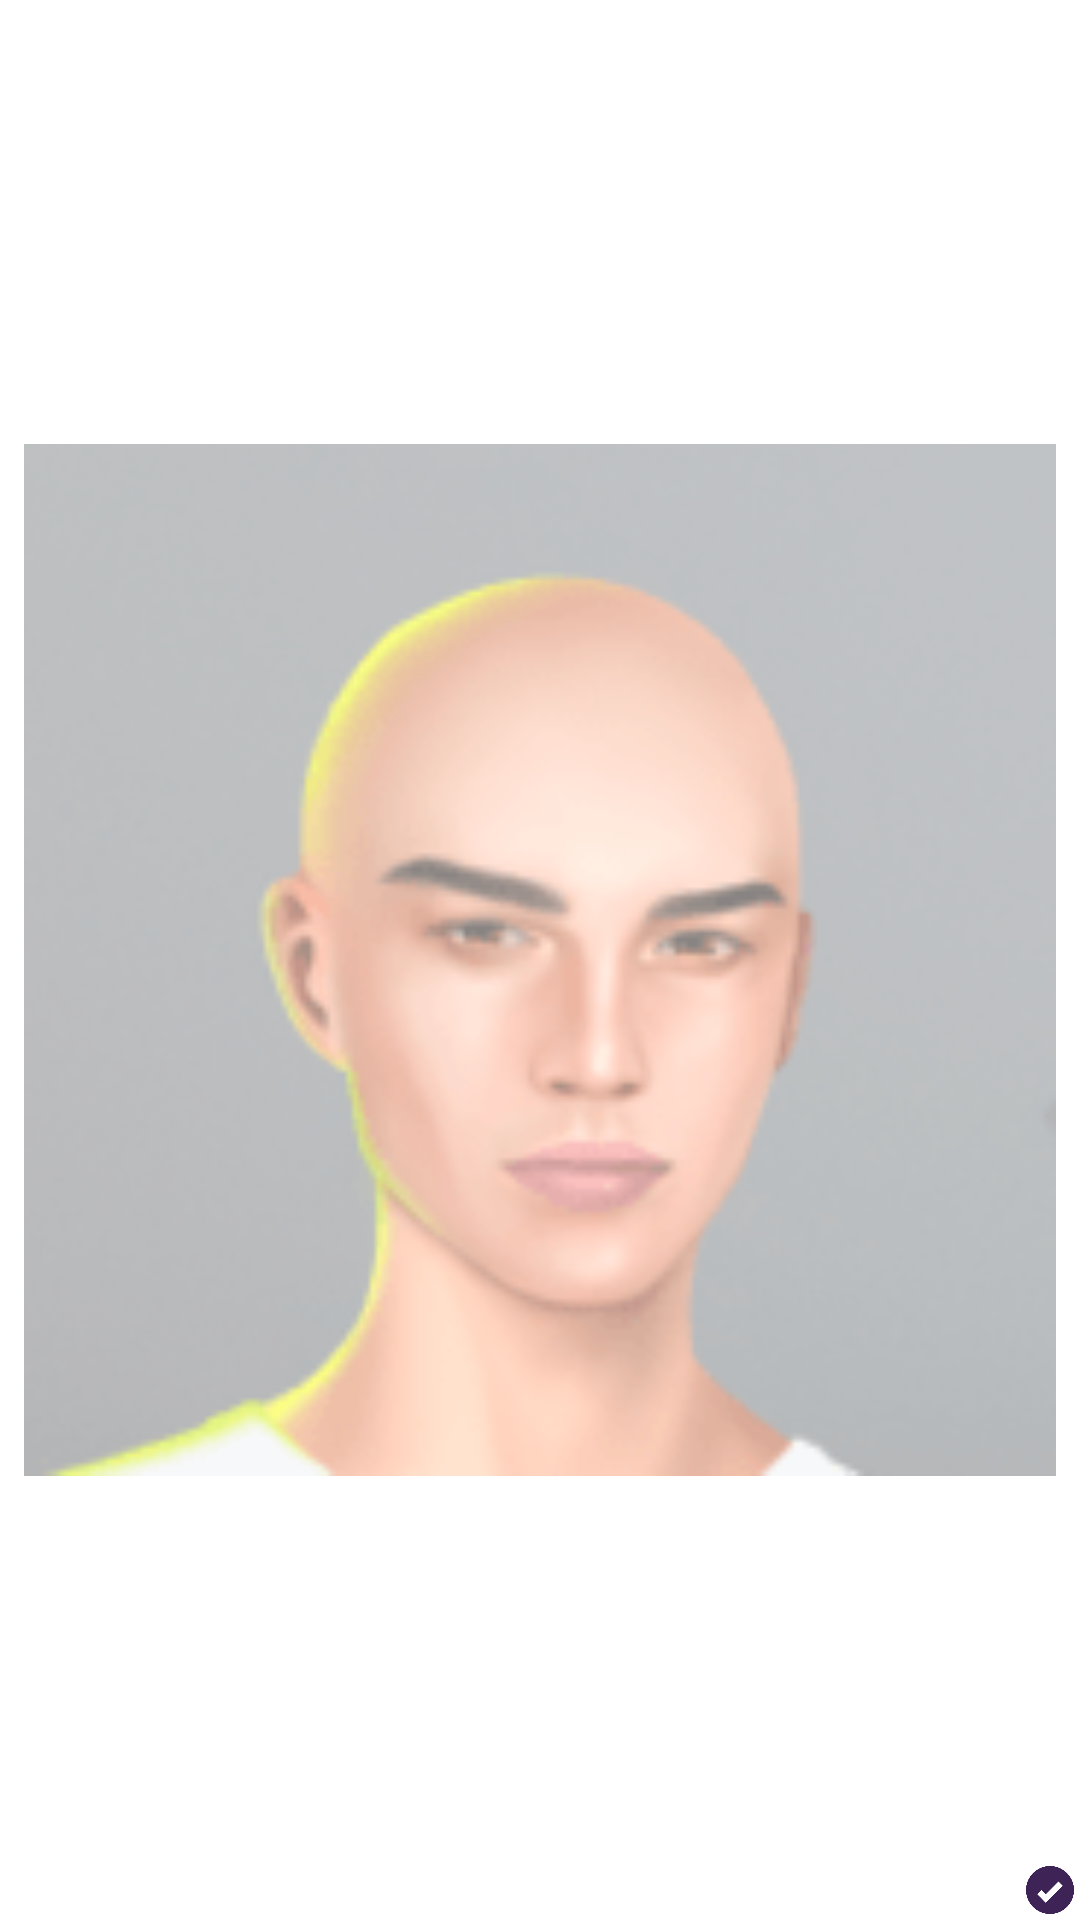

Where icons sit on this 1080×1920 app screen, as rect(x1, y1, x2, y2):
images tick: rect(1026, 1866, 1074, 1914)
